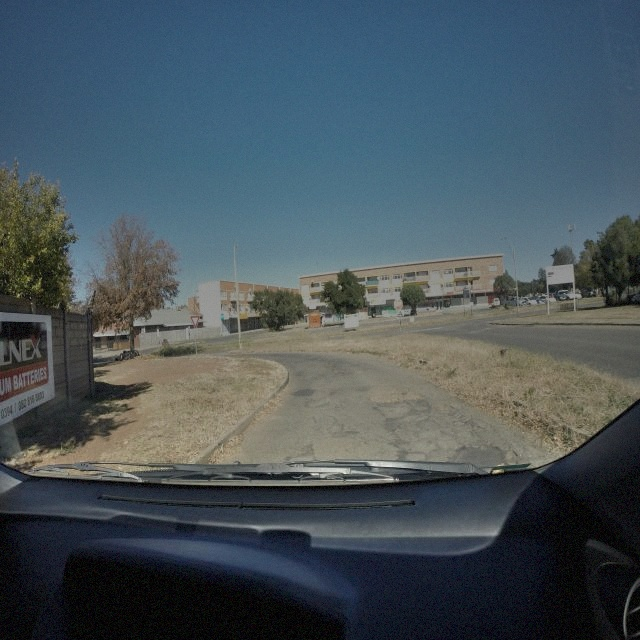pothole: (368, 388, 424, 406), (504, 446, 519, 462), (436, 400, 451, 412)
